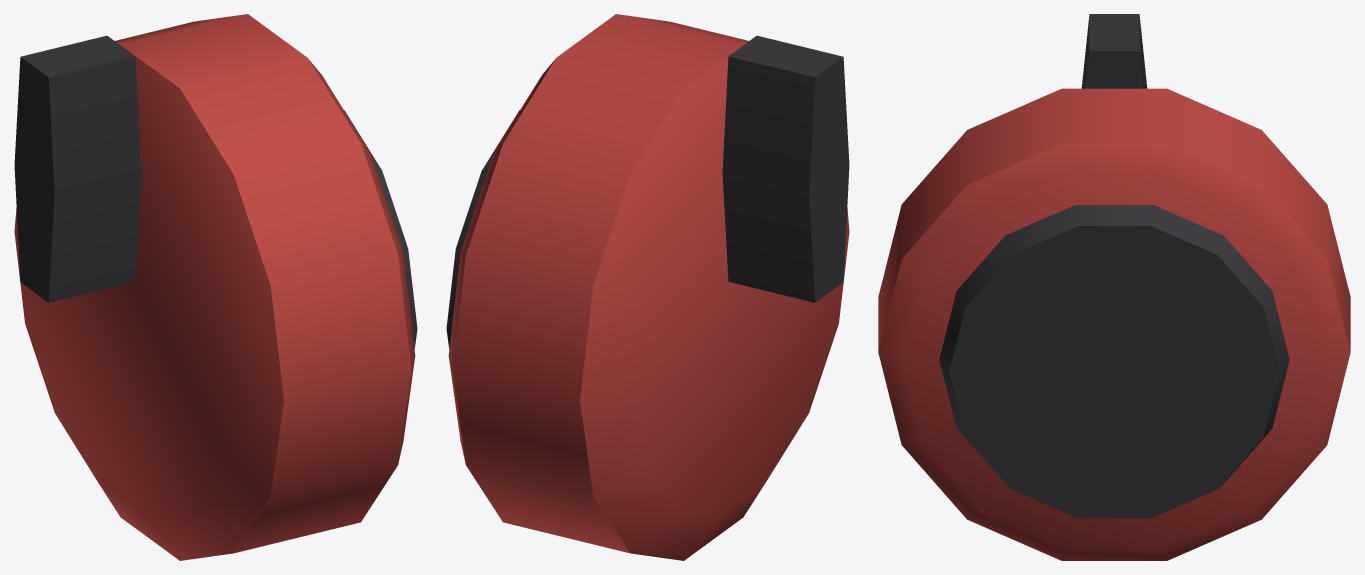
File: disc_lod1.glb
The picture shows the model from 3 angles, left to right: view 1: azimuth 30°, elevation 25°; view 2: azimuth 150°, elevation 25°; view 3: azimuth 270°, elevation 25°; orthographic projection. The views are drawn at different scales.
Parts seen in each view (by area): view 1: disc_lod1; view 2: disc_lod1; view 3: disc_lod1.
Part boxes in pixels (x1,y1,x2,y2): disc_lod1: [14, 14, 417, 560]; disc_lod1: [446, 14, 849, 560]; disc_lod1: [878, 14, 1350, 560].
Bounding box in the file's own units: 0.05 × 0.0826 × 0.08.
